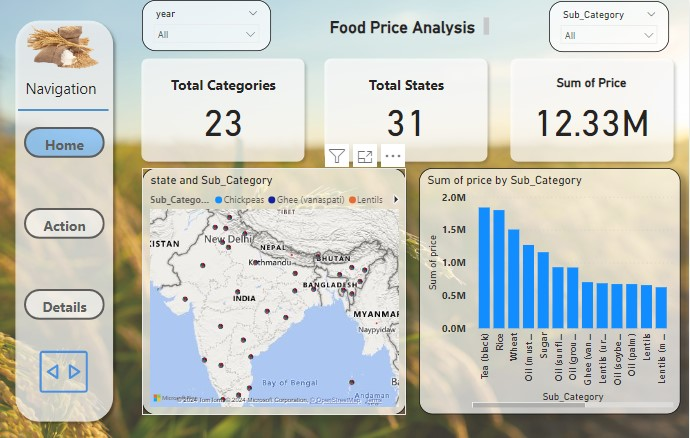

The dashboard page shown, as its layout file describes it:
{"tool":"powerbi","page":{"name":"Page 1","canvas":[1000,634],"ordinal":0},"visuals":[{"type":"shape","box":[15,20,160,600],"z":0},{"type":"actionButton","box":[35.5,184.2,117.1,44.7],"z":1000},{"type":"image","box":[36,24,117.3,84],"z":2000},{"type":"actionButton","box":[35.5,301.3,117.1,44.7],"z":3000},{"type":"actionButton","box":[35.5,418.4,117.1,44.7],"z":4000},{"type":"image","box":[50.7,493,85.9,93],"z":5000},{"type":"shape","box":[28.2,135.2,131,49.3],"z":6000},{"type":"textbox","box":[462.9,20,252.9,35.7],"z":7000},{"type":"shape","box":[197.3,76,254.7,168],"z":8000},{"type":"card","title":"Total Categories","fields":{"Values":["food_prices_ind.no.of_foodtypes"]},"box":[222.7,108,204,102.7],"z":9000},{"type":"shape","box":[462.7,76,254.7,168],"z":10000},{"type":"card","title":"Total States","fields":{"Values":["food_prices_ind.Total_States"]},"box":[486.7,108,206.7,102.7],"z":11000},{"type":"shape","box":[732,76,254.7,168],"z":12000},{"type":"card","title":"Sum of Price","fields":{"Values":["Sum(food_prices_ind.Retail_price)"]},"box":[760,108,198.7,102.7],"z":13000},{"type":"textbox","box":[33.3,108,122.7,42.7],"z":14000},{"type":"columnChart","fields":{"Category":["food_prices_ind.commodity"],"Y":["Sum(food_prices_ind.price)"]},"box":[608,244,378.7,357.3],"z":15000},{"type":"map","fields":{"Series":["food_prices_ind.commodity"],"Category":["food_prices_ind.state"]},"box":[207,243.7,383.1,357.7],"z":16000},{"type":"slicer","fields":{"Values":["food_prices_ind.commodity"]},"box":[797.1,1.4,174.3,74.3],"z":17000},{"type":"slicer","fields":{"Values":["food_prices_ind.year"]},"box":[207.1,0,187.1,74.3],"z":18000}]}

Visuals, with their boxes in screenshot pixels (x1, y1, x2, y2), scaled from the page's 1000x634 canvas onto the 690x438 screenshot:
shape: {"x1": 10, "y1": 14, "x2": 121, "y2": 428}
actionButton: {"x1": 24, "y1": 127, "x2": 105, "y2": 158}
image: {"x1": 25, "y1": 17, "x2": 106, "y2": 75}
actionButton: {"x1": 24, "y1": 208, "x2": 105, "y2": 239}
actionButton: {"x1": 24, "y1": 289, "x2": 105, "y2": 320}
image: {"x1": 35, "y1": 341, "x2": 94, "y2": 405}
shape: {"x1": 19, "y1": 93, "x2": 110, "y2": 127}
textbox: {"x1": 319, "y1": 14, "x2": 494, "y2": 38}
shape: {"x1": 136, "y1": 53, "x2": 312, "y2": 169}
"Total Categories" card: {"x1": 154, "y1": 75, "x2": 294, "y2": 146}
shape: {"x1": 319, "y1": 53, "x2": 495, "y2": 169}
"Total States" card: {"x1": 336, "y1": 75, "x2": 478, "y2": 146}
shape: {"x1": 505, "y1": 53, "x2": 681, "y2": 169}
"Sum of Price" card: {"x1": 524, "y1": 75, "x2": 662, "y2": 146}
textbox: {"x1": 23, "y1": 75, "x2": 108, "y2": 104}
columnChart - food_prices_ind.commodity x Sum(food_prices_ind.price): {"x1": 420, "y1": 169, "x2": 681, "y2": 415}
map - food_prices_ind.commodity x food_prices_ind.state: {"x1": 143, "y1": 168, "x2": 407, "y2": 415}
slicer - food_prices_ind.commodity: {"x1": 550, "y1": 1, "x2": 670, "y2": 52}
slicer - food_prices_ind.year: {"x1": 143, "y1": 0, "x2": 272, "y2": 51}
